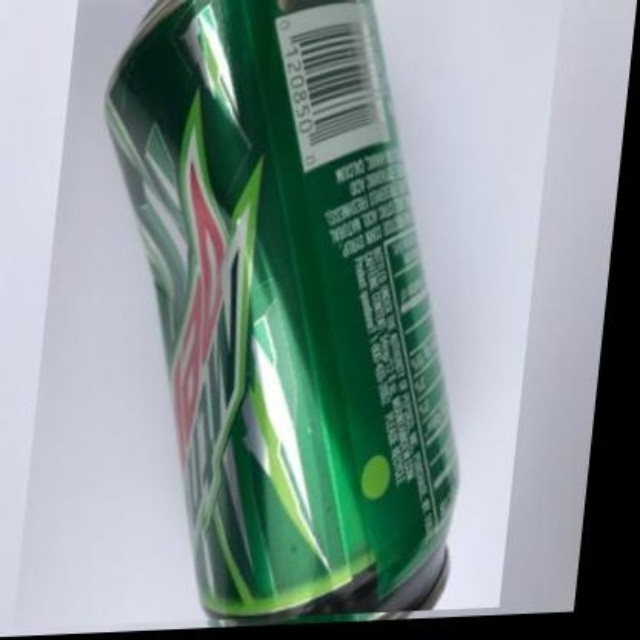trash: (106, 0, 455, 615)
